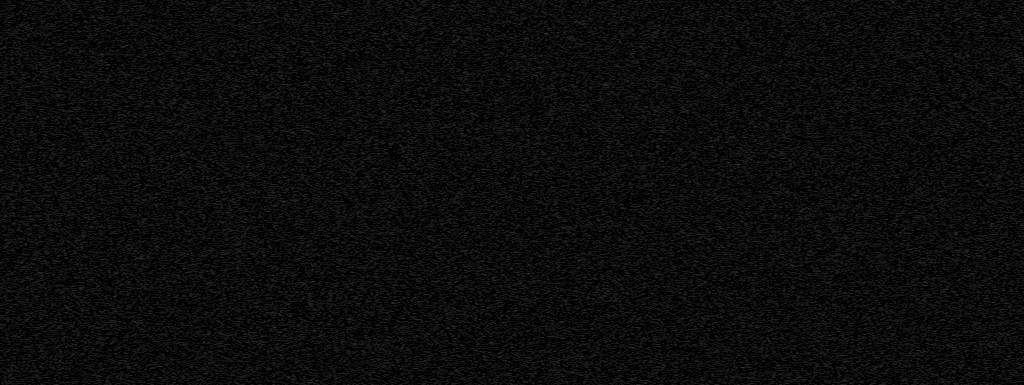wv_am: (251, 0, 257, 385), (864, 0, 869, 369), (912, 0, 917, 132), (912, 133, 917, 216), (912, 312, 917, 385), (912, 278, 917, 311), (912, 249, 917, 267), (912, 237, 917, 248), (912, 270, 917, 277), (912, 229, 917, 235), (912, 222, 917, 228), (912, 217, 917, 221)
wv_cw: (958, 0, 964, 385), (98, 0, 102, 385)
wv_dvbt_8kfft: (314, 0, 727, 385)
wv_lsb: (296, 25, 301, 119), (296, 305, 301, 373), (296, 227, 301, 281), (296, 124, 301, 175), (904, 3, 909, 38), (904, 105, 909, 137), (904, 356, 909, 385), (904, 60, 908, 88), (904, 268, 908, 295), (296, 196, 301, 217), (904, 161, 909, 181), (904, 39, 909, 59), (904, 319, 908, 341), (296, 176, 301, 190), (296, 3, 301, 16), (904, 182, 909, 195), (904, 89, 908, 104), (904, 307, 908, 318), (296, 294, 300, 304), (904, 260, 908, 267), (904, 252, 908, 259), (904, 226, 908, 233), (905, 346, 908, 355), (296, 376, 300, 382), (904, 296, 908, 302), (296, 286, 301, 290), (296, 221, 300, 226), (296, 191, 301, 195), (904, 146, 908, 150), (904, 140, 908, 144), (296, 21, 301, 24), (296, 17, 301, 20), (296, 282, 300, 285), (296, 120, 300, 123), (904, 303, 908, 306), (904, 248, 908, 251), (904, 244, 908, 247), (905, 207, 908, 211), (905, 342, 908, 345), (905, 234, 908, 237), (905, 203, 908, 206), (905, 196, 908, 199), (905, 155, 908, 158), (905, 151, 908, 154)
wv_wbfm: (934, 0, 947, 385)
